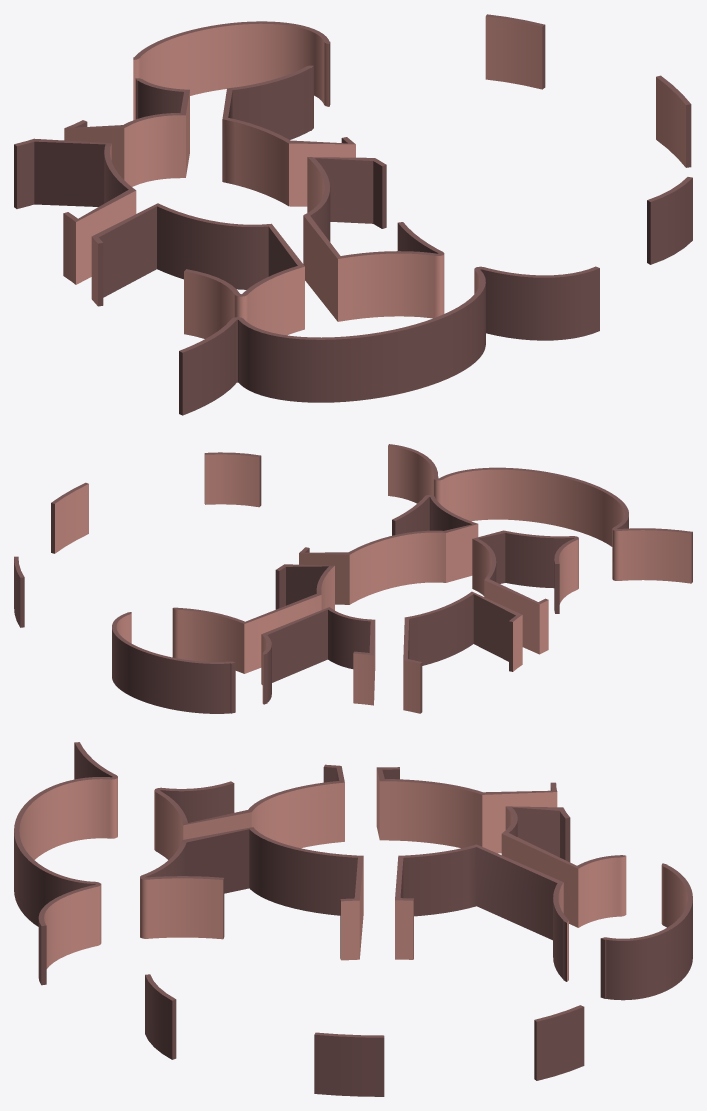
File: walls.fbx
3 views of the same model, one above another, from view 1: azimuth 30°, elevation 25°; view 2: azimuth 150°, elevation 25°; view 3: azimuth 270°, elevation 25° (orthographic). The views are drawn at different scales.
Visible parts, largest first — view 1: FINALv2_walls.005; view 2: FINALv2_walls.005; view 3: FINALv2_walls.005.
Boxes of the visible parts, box(x1,y1,x2,y2) form: FINALv2_walls.005: box(14, 14, 692, 415); FINALv2_walls.005: box(14, 444, 692, 713); FINALv2_walls.005: box(14, 742, 692, 1096).
Size of the model in its own units: 7787 by 905 by 7556.
